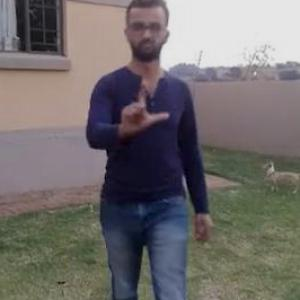land_hand: (114, 77, 170, 140)
